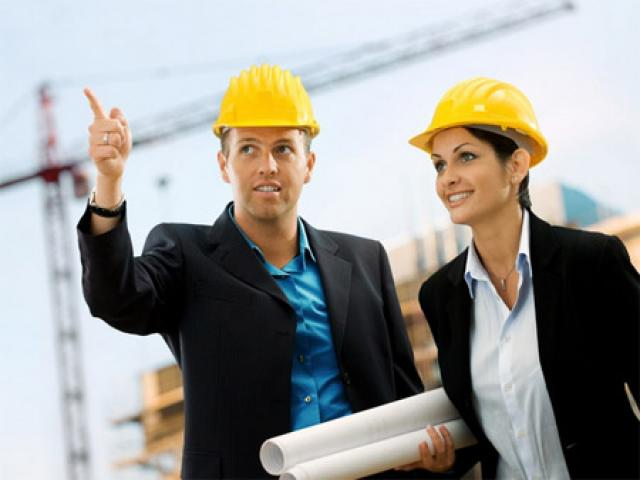Helmet: (404, 70, 550, 169), (205, 57, 323, 144)
